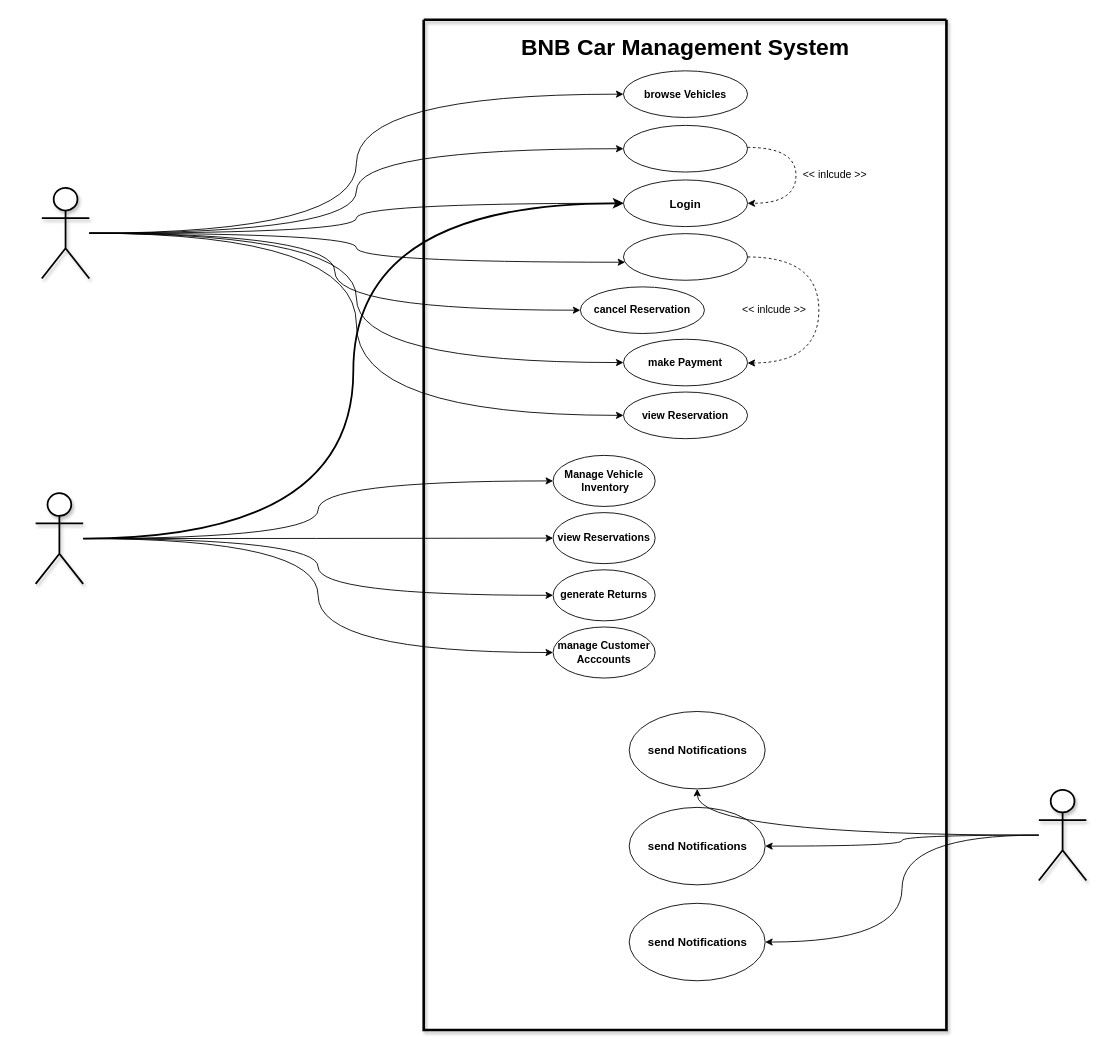
This 1120x1052 diagram has some shape labels left out. Here are the shapes that lost their labels. From the top down, the centre of each, then its label:
the point at 685,148: create Account
the point at 66,234: customer Actor
the point at 685,256: make Reservation
the point at 60,539: admin Actor
the point at 1063,836: system Actor
